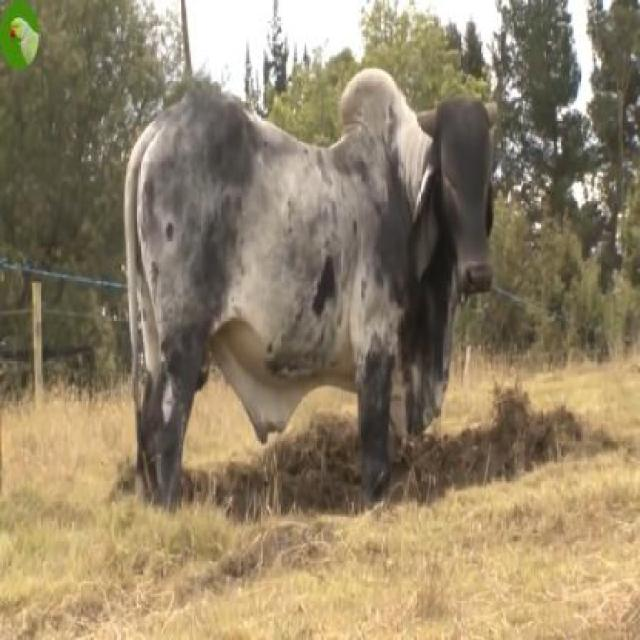Cow: (126, 68, 500, 512)
